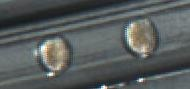joints: (123, 16, 161, 56), (36, 35, 73, 76)
